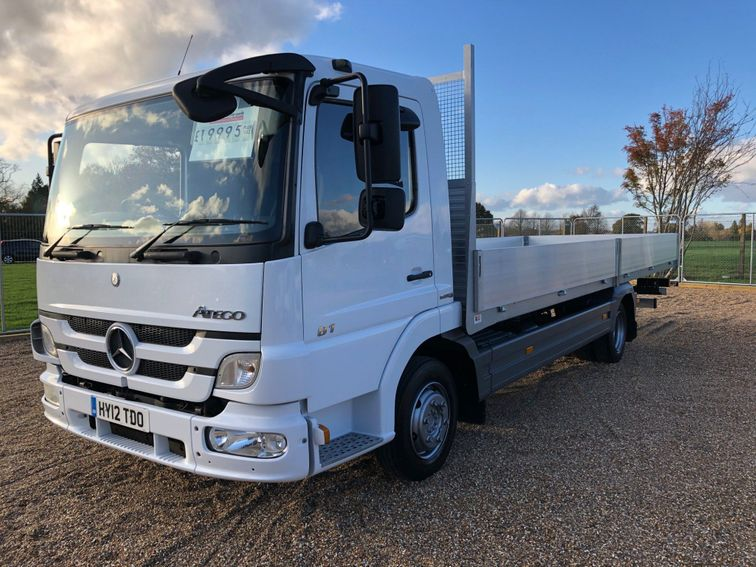Semi: (29, 51, 677, 484)
